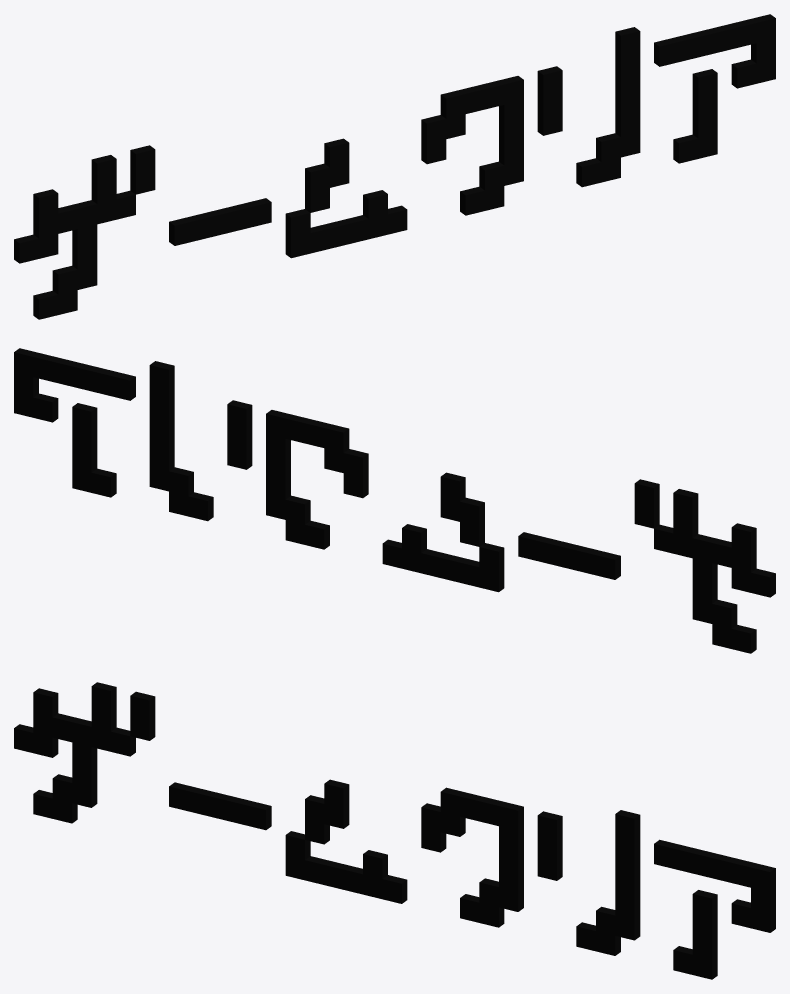
The model's file is GameClear.obj.
The picture shows the model from 3 angles, top to bottom: view 1: azimuth 30°, elevation 25°; view 2: azimuth 150°, elevation 25°; view 3: azimuth 330°, elevation 25°; orthographic projection.
Bounding box in the file's own units: 7.8 × 1.4 × 0.1.
